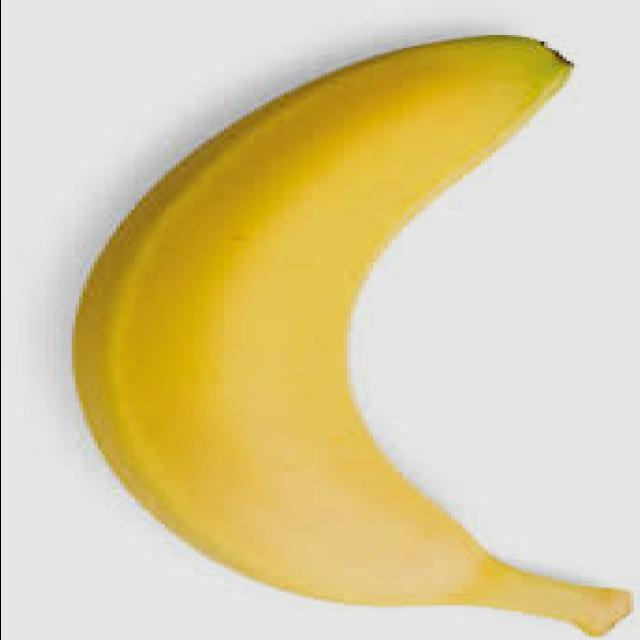non_orange: (56, 30, 640, 640)
